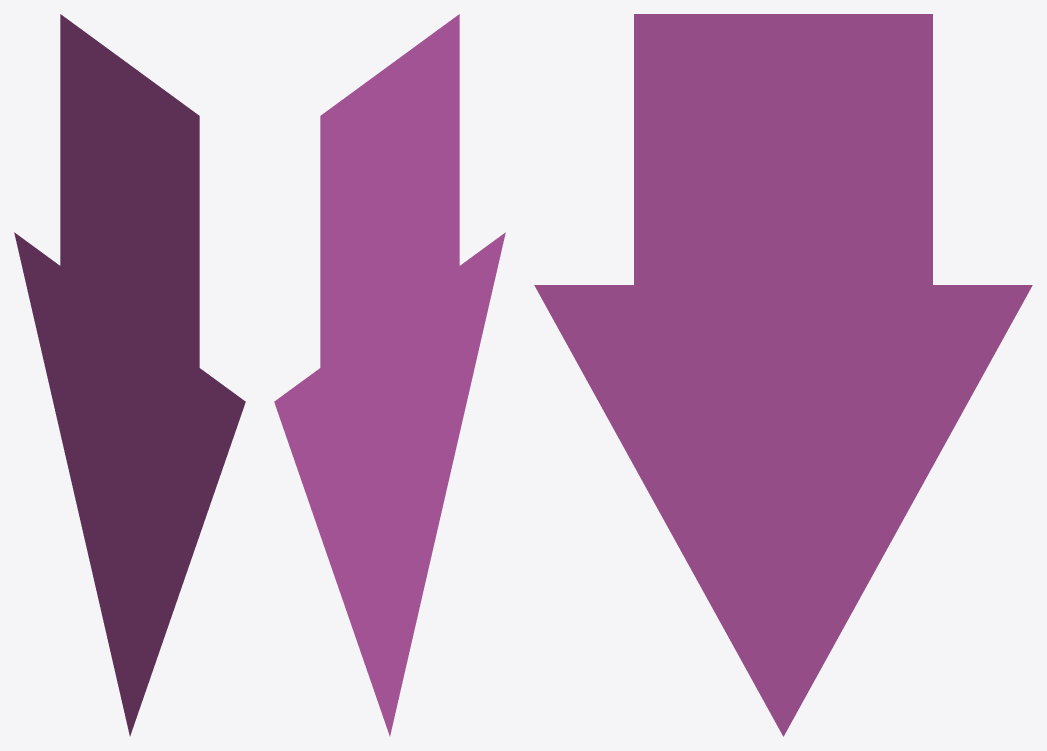
File: enemyAlpha2D.fbx
3 views of the same model, side by side, from view 1: azimuth 30°, elevation 25°; view 2: azimuth 150°, elevation 25°; view 3: azimuth 270°, elevation 25° (orthographic). The views are drawn at different scales.
Parts seen in each view (by area): view 1: Plane, Plane.001; view 2: Plane, Plane.001; view 3: Plane, Plane.001.
Boxes of the visible parts, x1,y1,x2,y2 form: Plane: (14,232,245,736); Plane.001: (60,14,199,367); Plane: (274,232,505,736); Plane.001: (320,14,459,367); Plane: (534,285,1032,736); Plane.001: (634,14,932,284).
Bounding box in the file's own units: 4.75e-05 × 160 × 100.
